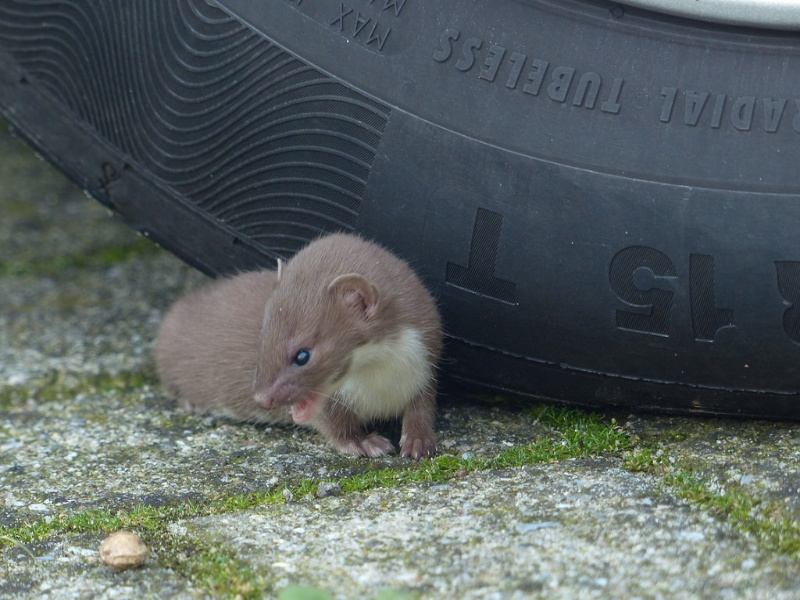minkish: (144, 220, 447, 467)
